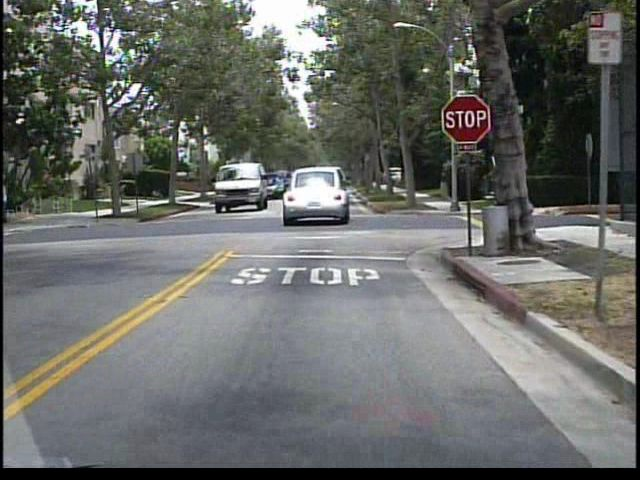person: (3, 170, 14, 225)
